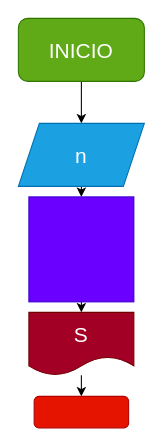
The diagram is 163 pixels wide and 446 high, and some of its shapes have lost their labels. Here are the shapes that lost their labels. From the top down, the centre of each, then its label:
At [81,249]: "S= (n(n+1))/2".
At [81,411]: "FIN".
